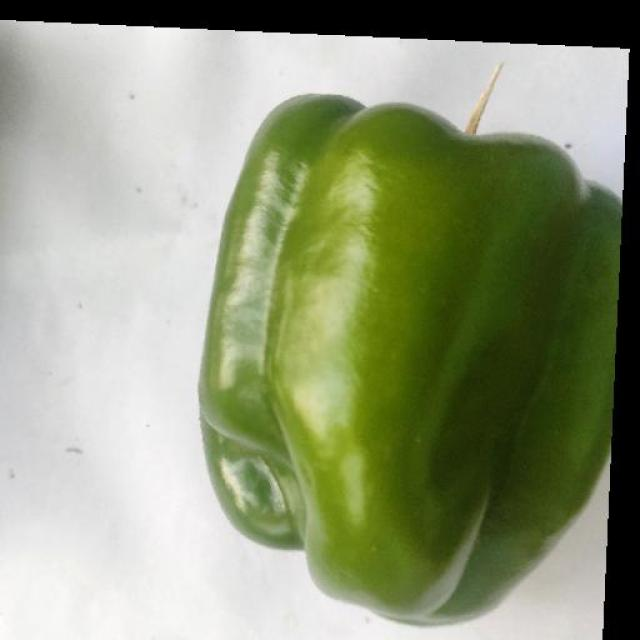Fresh_Capsicum: (240, 95, 640, 605)
